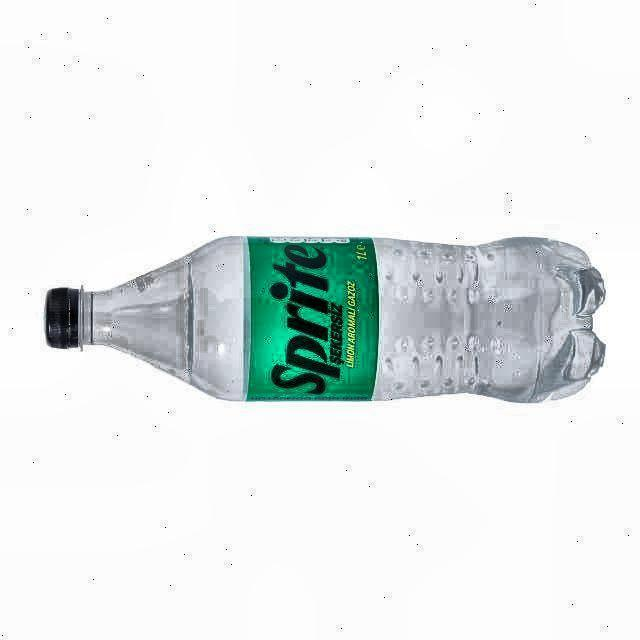plastic: (46, 236, 604, 401)
